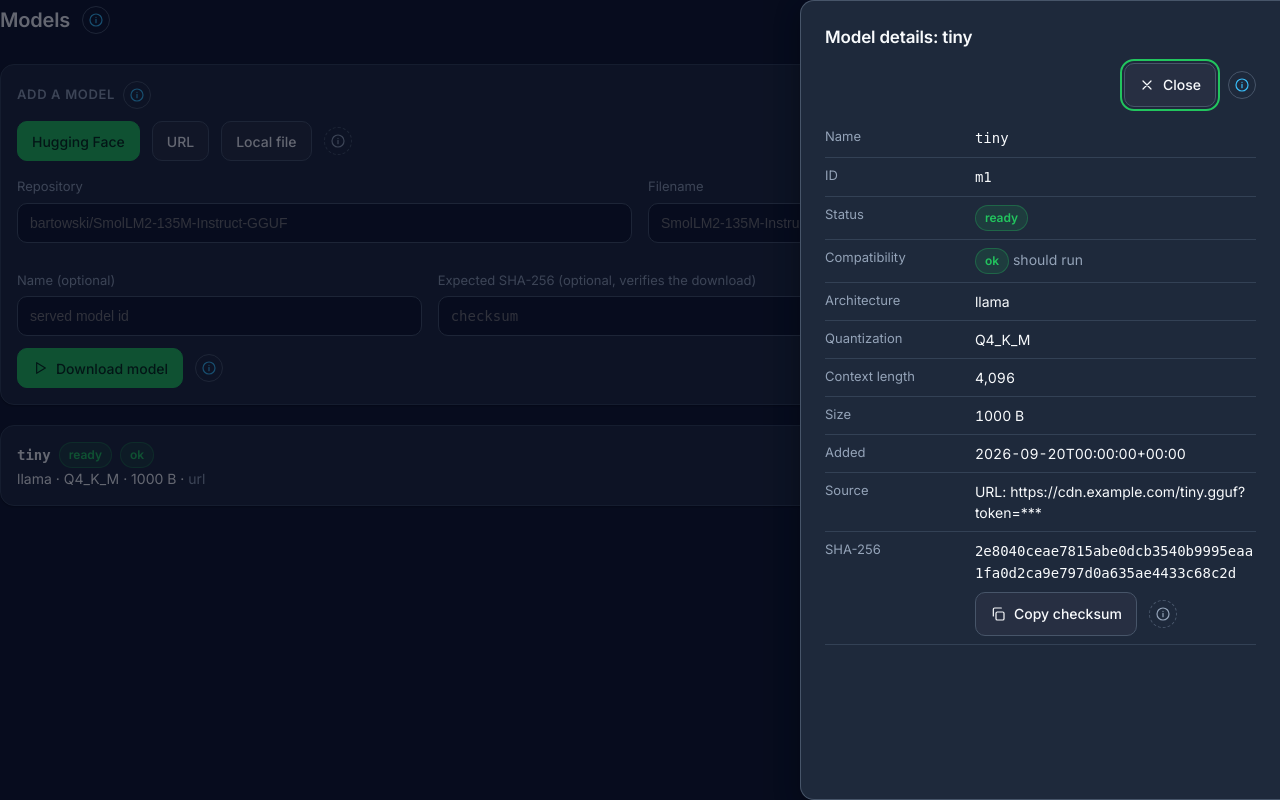
Test: Model details drawer › copies the checksum and reports a refused clipboard truthfully
The width and height of the screenshot is (1280, 800).
Expected: the element with test id "model-details" is shown, [825, 118, 1256, 644]
Click the button "Copy checksum" at (1056, 614), box [975, 592, 1137, 636]
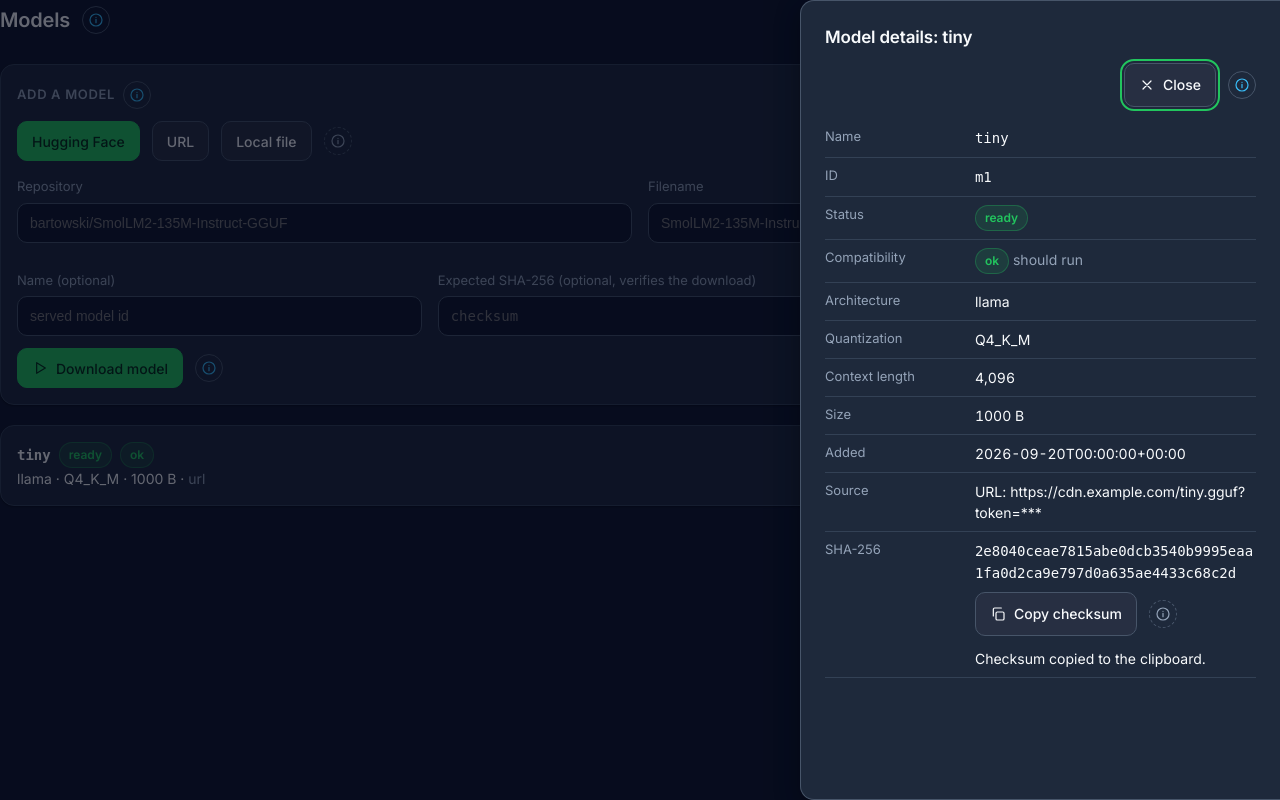
Now the text "Checksum copied to the clipboard." is shown, box [975, 648, 1206, 668]
Click the button "Copy checksum" at (1056, 614), box [975, 592, 1137, 636]
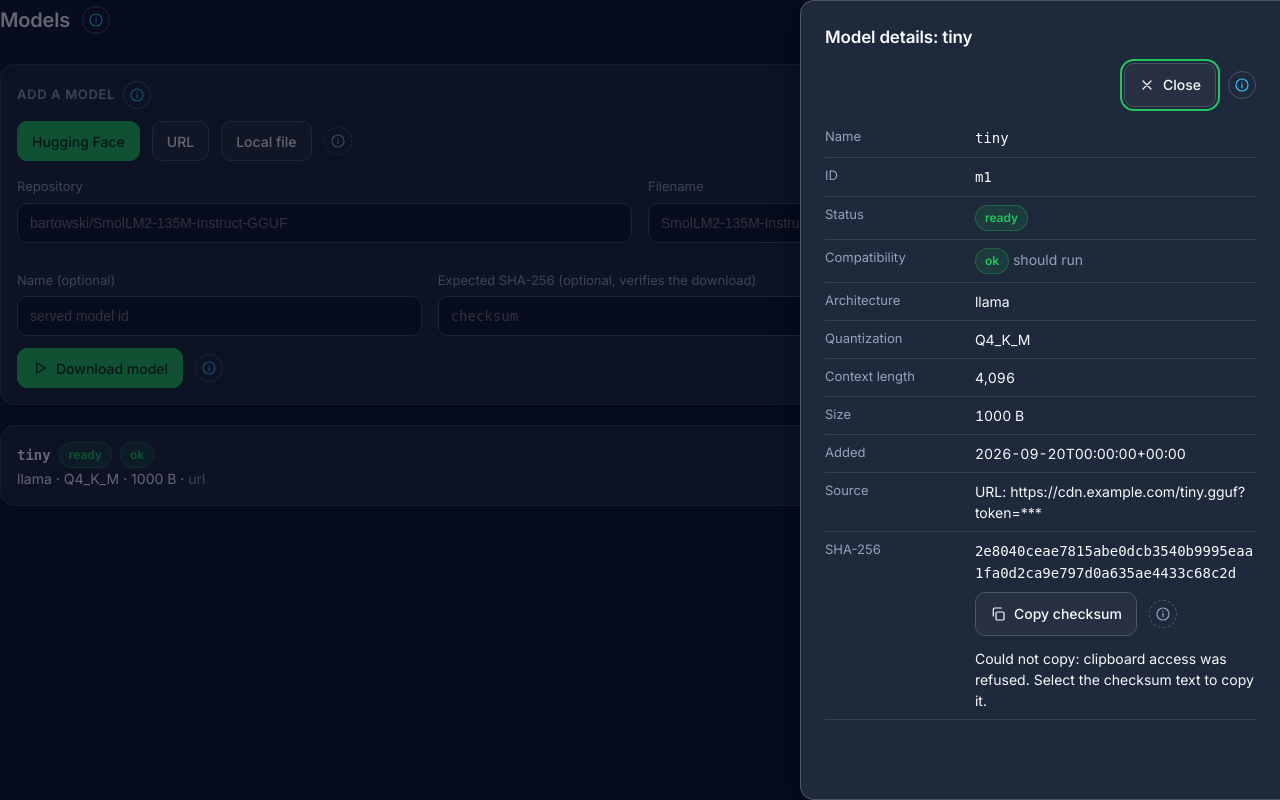
Now the text "Could not copy" is shown, box [975, 650, 1254, 708]
